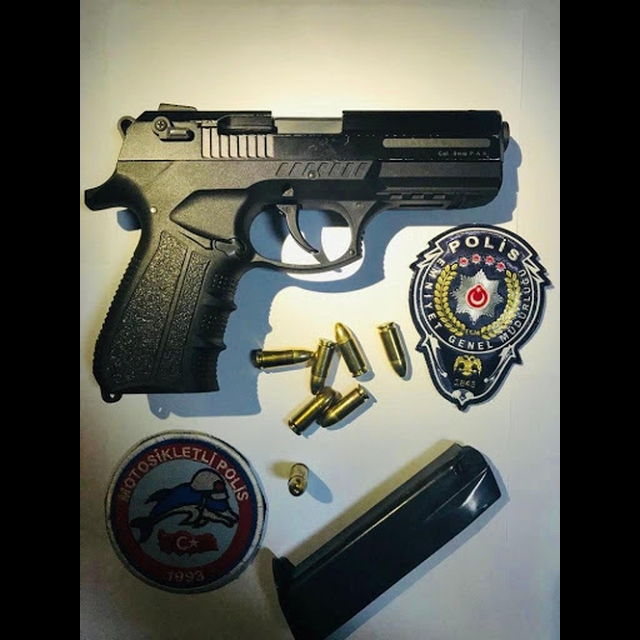SILAH: (86, 99, 513, 405)
